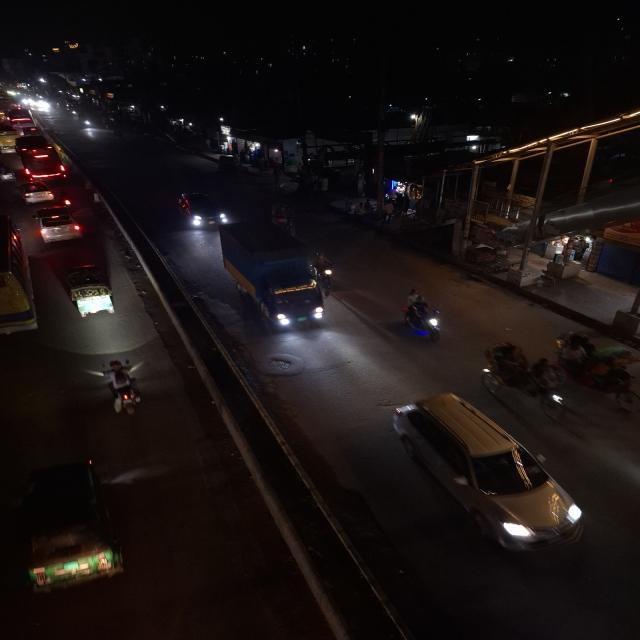bus: (0, 208, 39, 345), (15, 134, 70, 182), (0, 123, 19, 153)
car: (389, 388, 595, 562), (173, 189, 230, 231), (32, 204, 84, 245), (14, 180, 55, 205)
cng: (4, 456, 126, 598), (0, 162, 17, 184)
motorcycle: (397, 287, 451, 346), (99, 356, 148, 417), (314, 249, 339, 288), (59, 190, 75, 208)
rickshaw: (552, 328, 640, 418), (479, 338, 568, 412), (56, 262, 123, 322), (266, 201, 298, 229)
truck: (214, 218, 328, 332)
